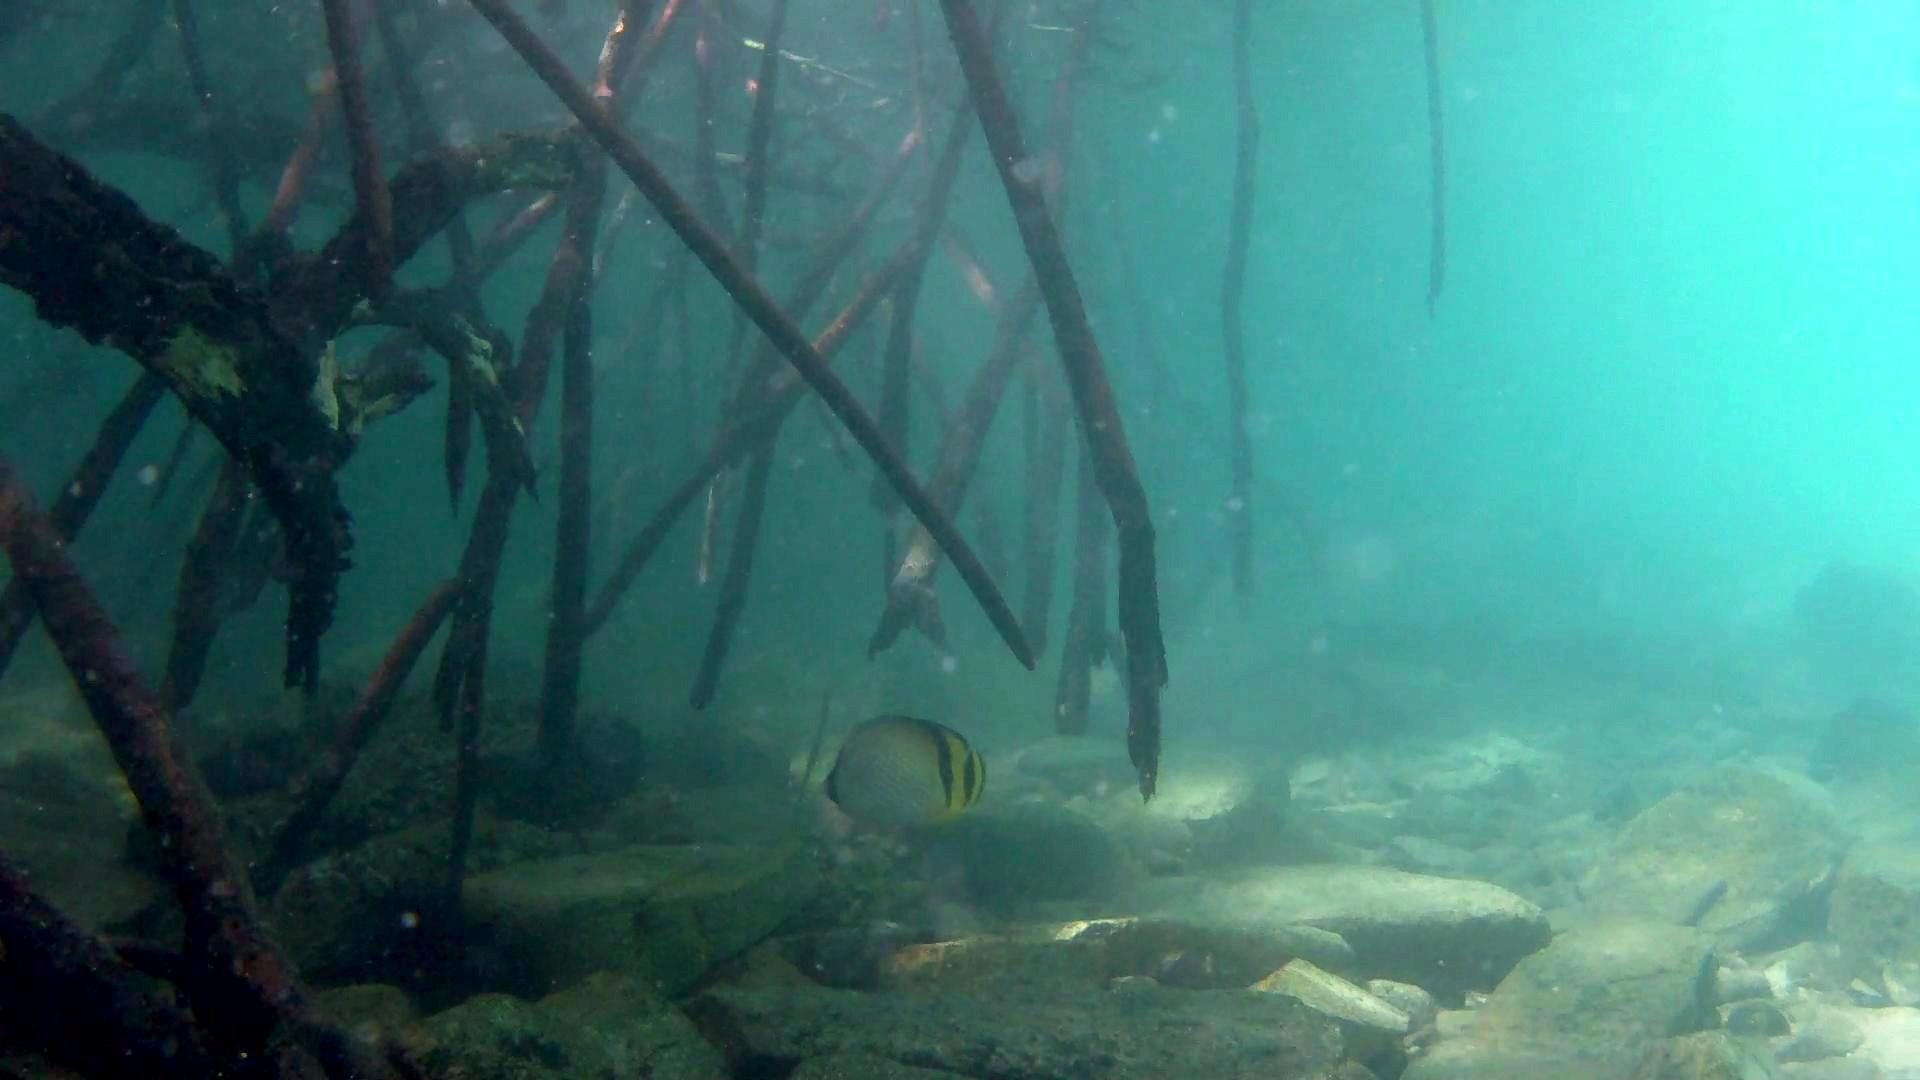chaetodon vagabundus: (804, 711, 990, 828)
